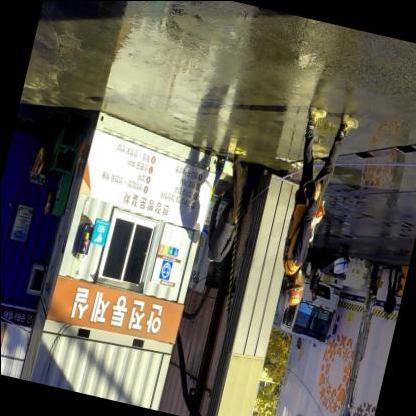Helmet: (276, 277, 309, 319)
safety-shoe: (334, 101, 364, 138), (298, 96, 331, 128)
